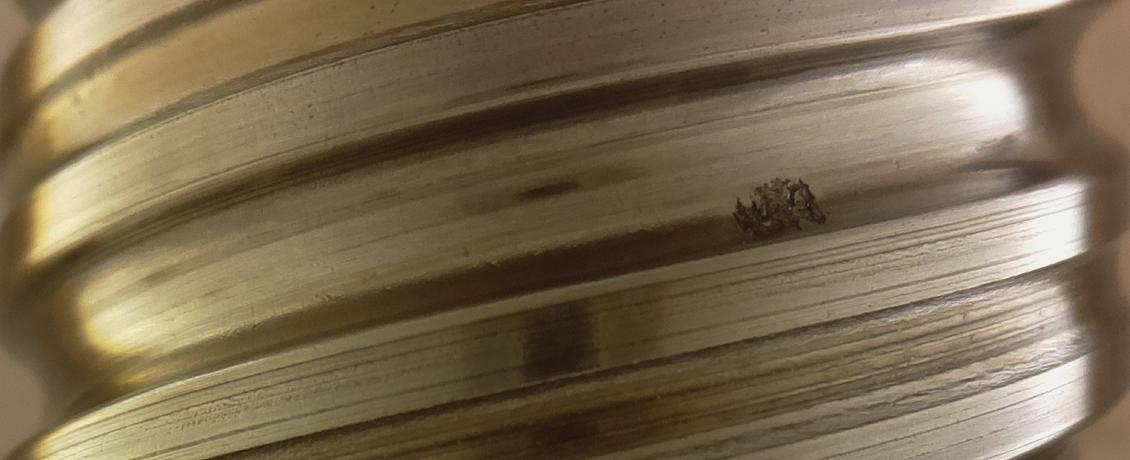pitting: (732, 175, 826, 243)
